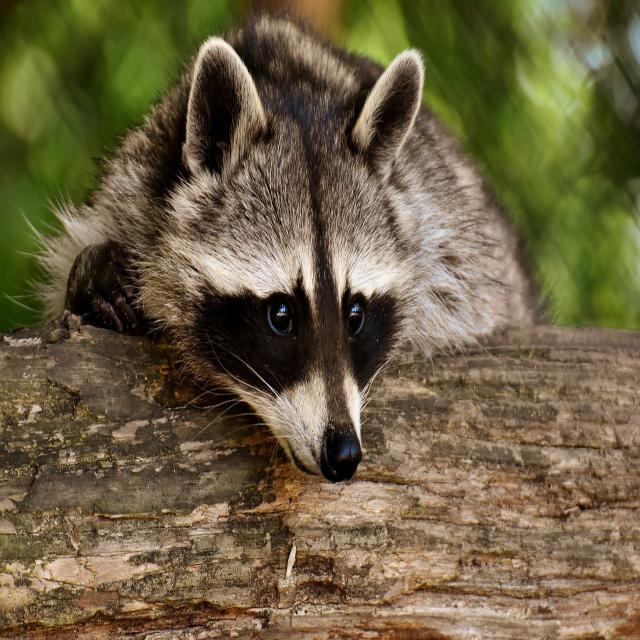Carnivorous: (34, 14, 551, 486)
